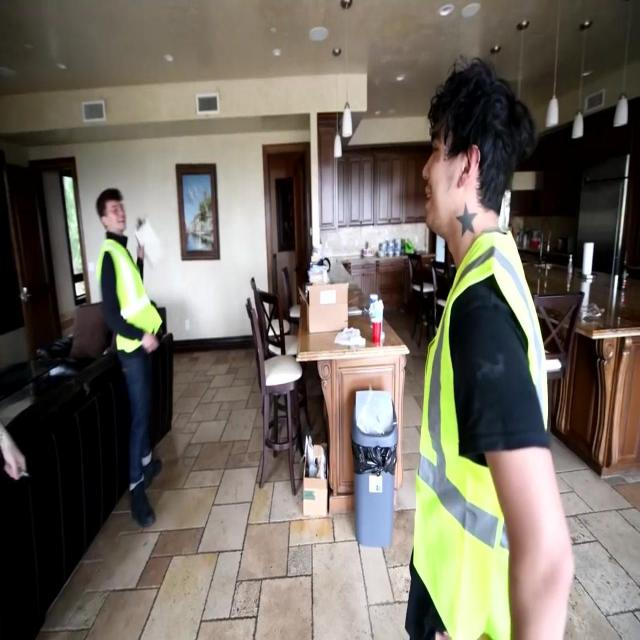Reflective-Jacket: (406, 220, 567, 636), (91, 236, 167, 362)
Safety-Helmet: (90, 178, 132, 239)
